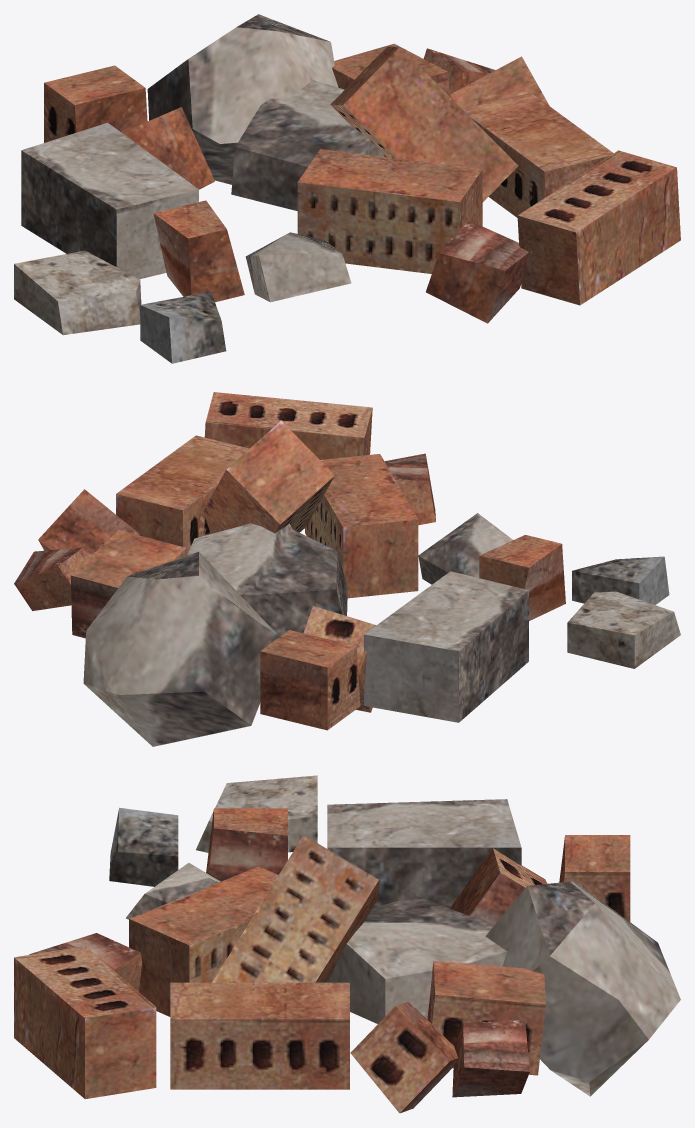
File: Debris2_5.fbx
3 renders of one model, top to bottom at view 1: azimuth 30°, elevation 25°; view 2: azimuth 150°, elevation 25°; view 3: azimuth 270°, elevation 25°, orthographic. The views are drawn at different scales.
Visible parts, largest first — view 1: polySurface285; view 2: polySurface285; view 3: polySurface285.
Boxes of the visible parts, box(x1,y1,x2,y2) form: polySurface285: box(14, 14, 680, 363); polySurface285: box(14, 392, 680, 746); polySurface285: box(14, 775, 680, 1113).
Bounding box in the file's own units: 1.44 × 0.5866 × 1.36.
